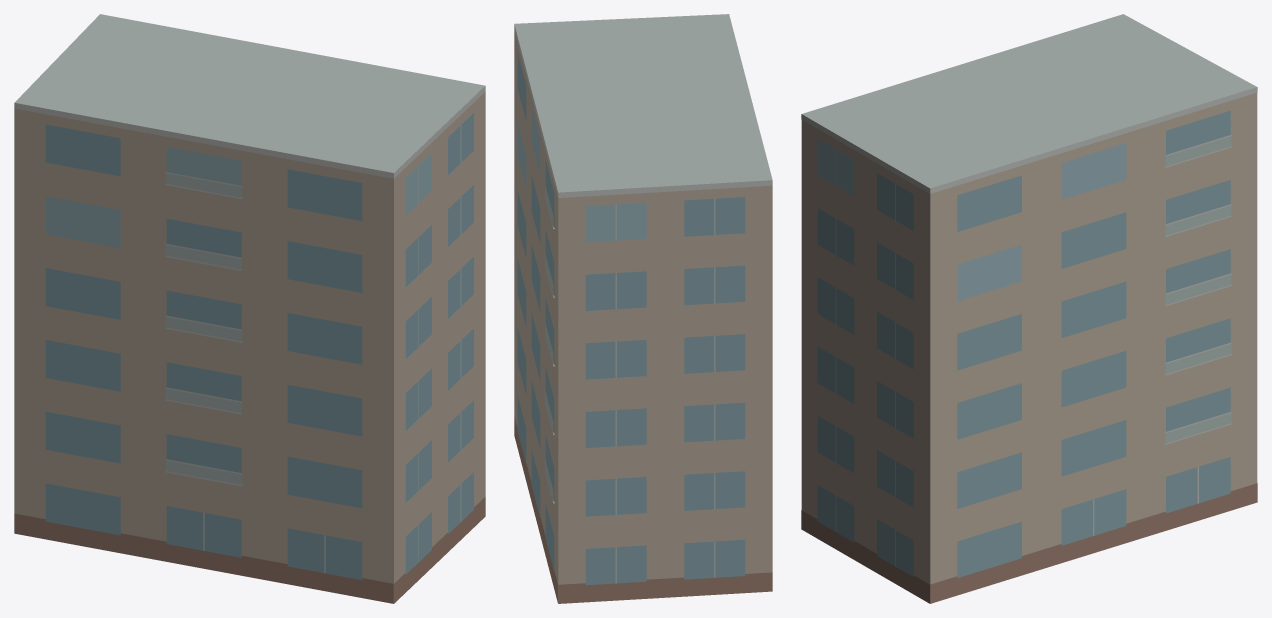
File: survey-upis-32927022.glb
3 views of the same model, side by side, from view 1: azimuth 30°, elevation 25°; view 2: azimuth 150°, elevation 25°; view 3: azimuth 270°, elevation 25° (orthographic). The views are drawn at different scales.
Parts seen in each view (by area): view 1: survey-upis-32927022.tmp; view 2: survey-upis-32927022.tmp; view 3: survey-upis-32927022.tmp.
Part boxes in pixels (x1,y1,x2,y2): survey-upis-32927022.tmp: (14,14,485,603); survey-upis-32927022.tmp: (514,14,772,603); survey-upis-32927022.tmp: (801,14,1257,603).
Bounding box in the file's own units: 16.49 × 18.3 × 18.21.
